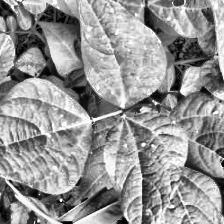Bean Rust: (61, 0, 168, 111), (0, 76, 93, 192), (100, 113, 180, 224), (172, 94, 224, 179), (154, 163, 224, 224), (147, 0, 224, 42), (28, 0, 62, 9)
